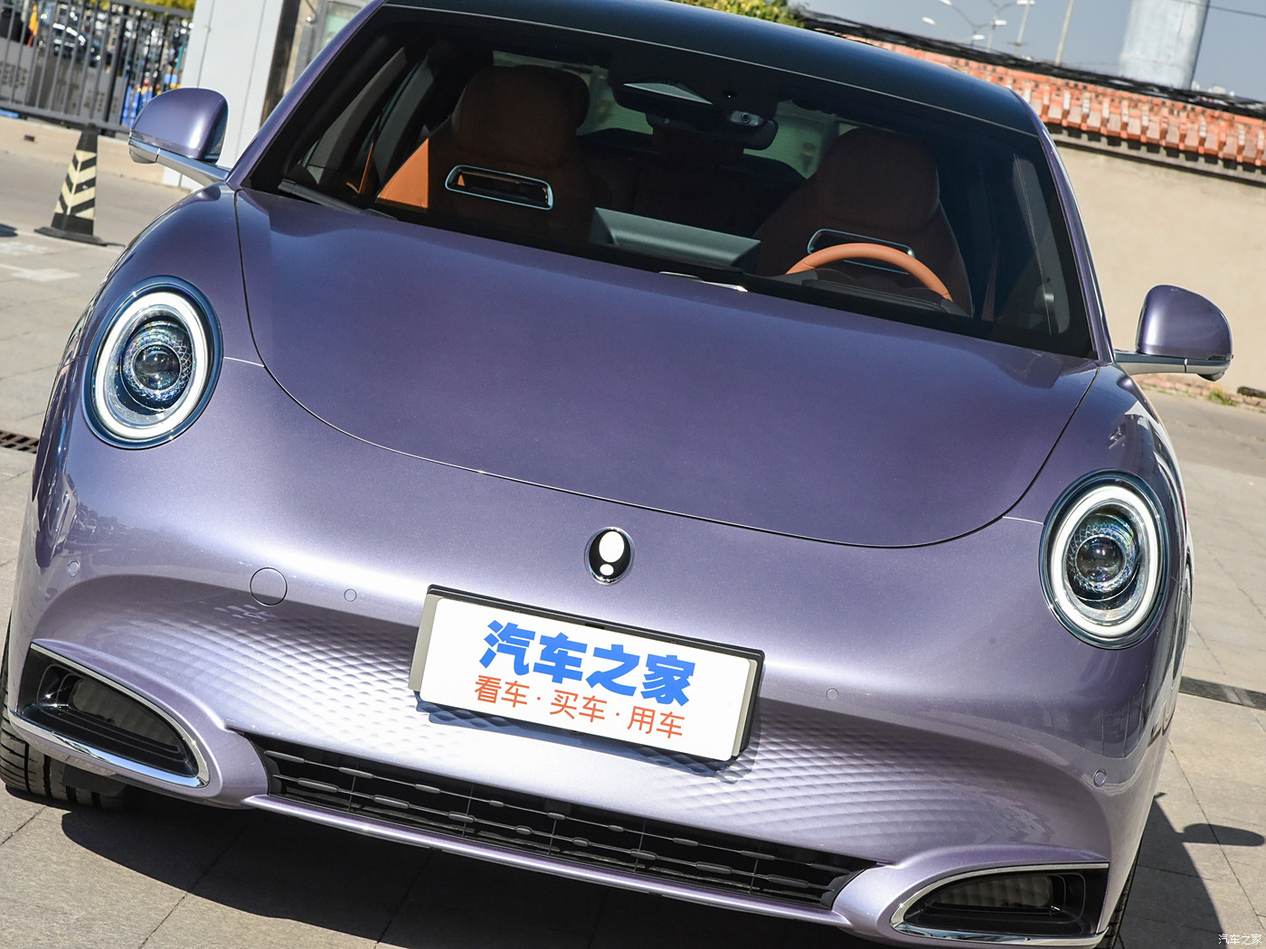ORA: (589, 530, 631, 583)
